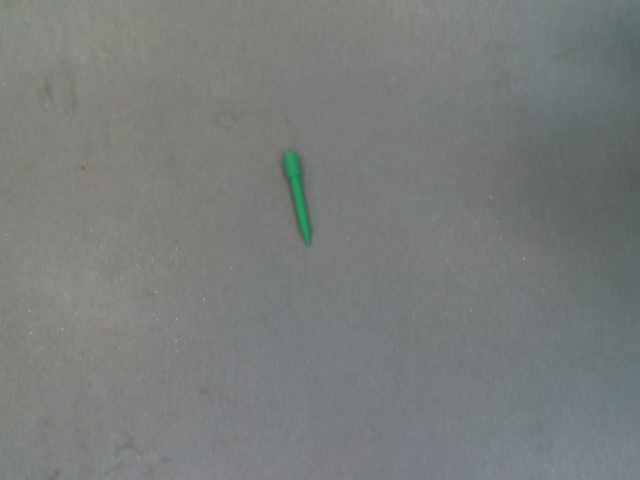Probe: (277, 146, 318, 251)
